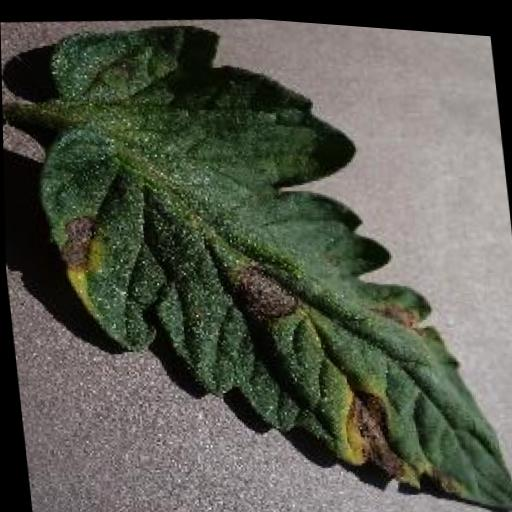Early Blight: (16, 1, 512, 512)
